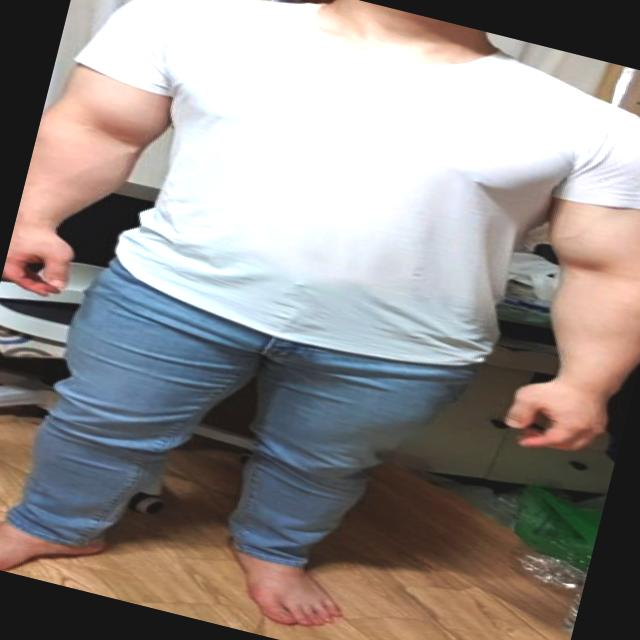denimpants: (12, 236, 462, 624)
shortsleeve: (17, 0, 640, 427)
